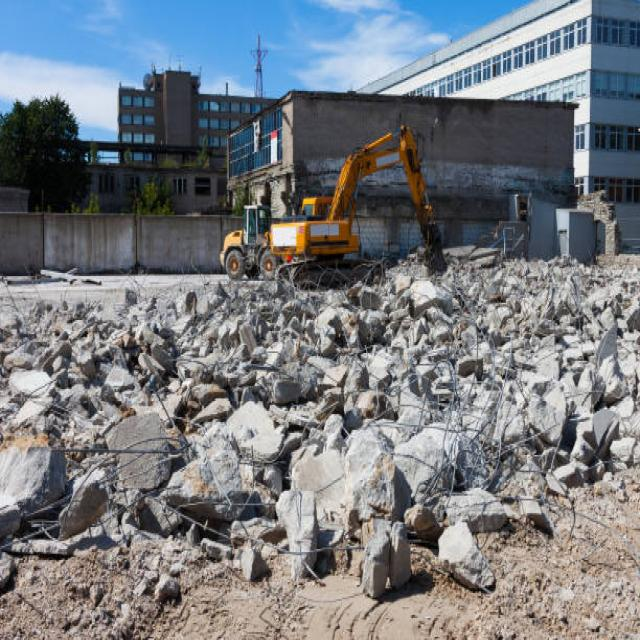trash: (28, 262, 614, 583)
